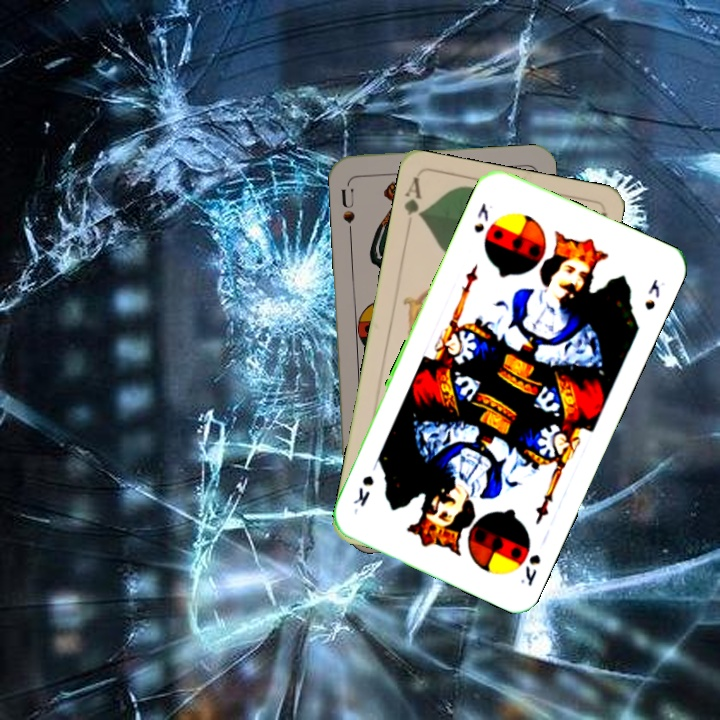GA: (400, 174, 426, 220)
SK: (516, 550, 544, 589), (469, 199, 496, 236)
SU: (337, 184, 357, 237)
